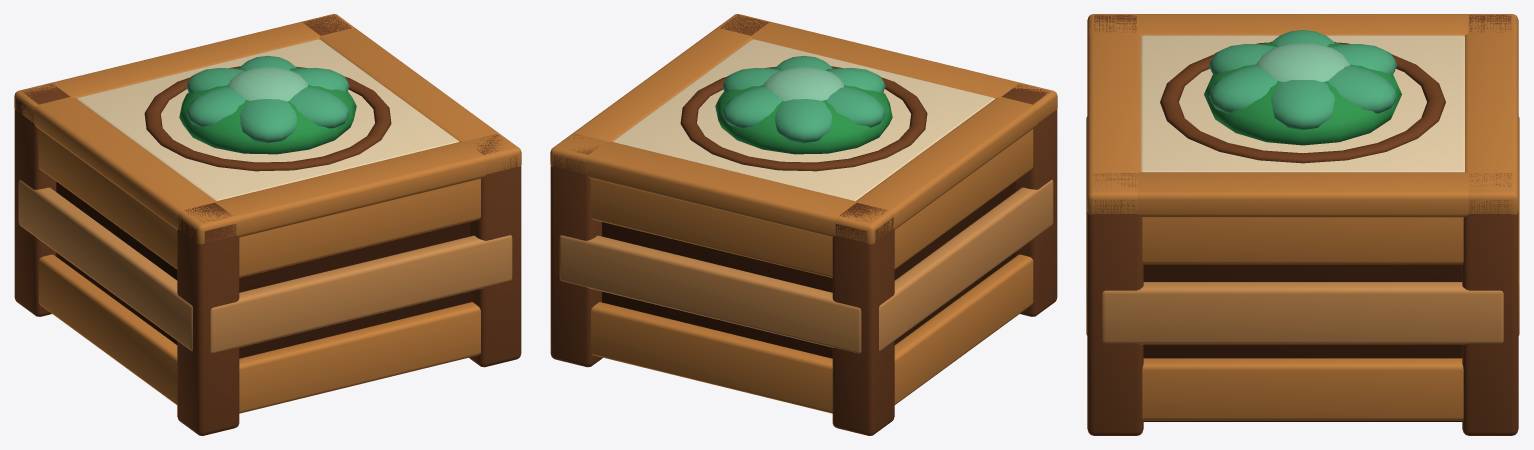
File: crate_lettuce.gltf
The picture shows the model from 3 angles, left to right: view 1: azimuth 30°, elevation 25°; view 2: azimuth 150°, elevation 25°; view 3: azimuth 270°, elevation 25°; orthographic projection. The views are drawn at different scales.
Parts seen in each view (by area): view 1: CrateShadowCore; view 2: CrateShadowCore; view 3: CrateShadowCore.
Boxes of the visible parts, x1,y1,x2,y2 form: CrateShadowCore: (14, 14, 521, 435); CrateShadowCore: (550, 14, 1057, 435); CrateShadowCore: (1086, 14, 1519, 435).
Bounding box in the file's own units: 1.01 × 0.756 × 1.01.
